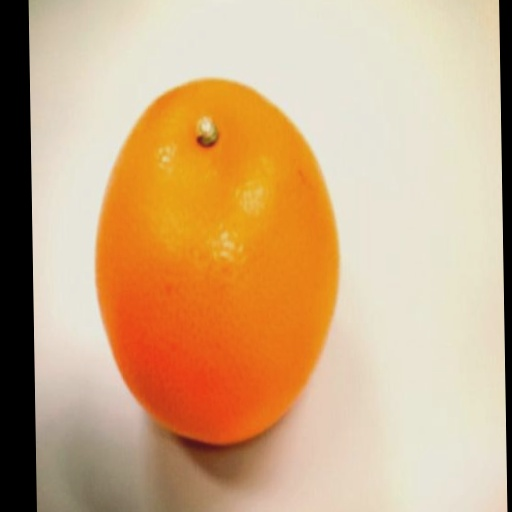fruit: (95, 80, 337, 444)
